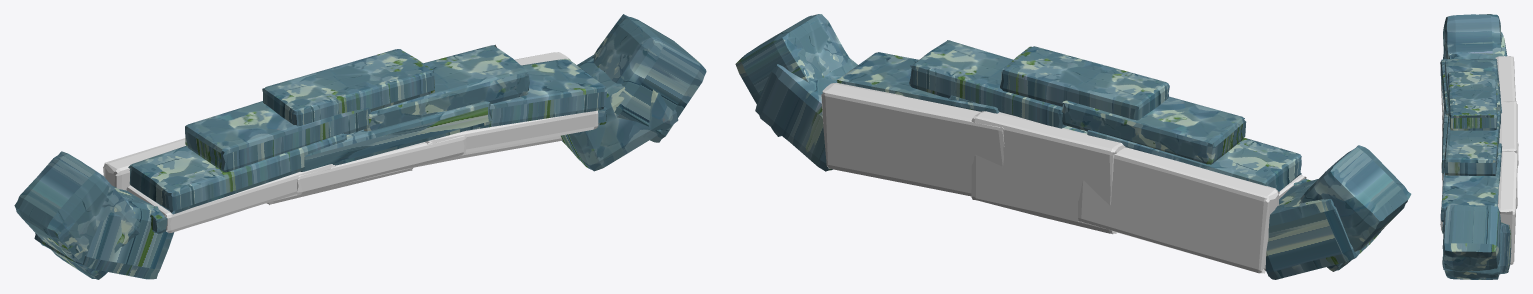
The model's file is SM_Rock_Mountain_CavePass.fbx.
3 views of the same model, side by side, from view 1: azimuth 30°, elevation 25°; view 2: azimuth 150°, elevation 25°; view 3: azimuth 270°, elevation 25° (orthographic). The views are drawn at different scales.
Visible parts, largest first — view 1: SM_Rock_Mountain_CavePass; view 2: SM_Rock_Mountain_CavePass; view 3: SM_Rock_Mountain_CavePass.
Part boxes in pixels (left/top/right/bottom): SM_Rock_Mountain_CavePass: left=14, top=14, right=706, bottom=279; SM_Rock_Mountain_CavePass: left=735, top=14, right=1411, bottom=279; SM_Rock_Mountain_CavePass: left=1440, top=14, right=1518, bottom=279.
Size of the model in its own units: 2268 by 469 by 332.
